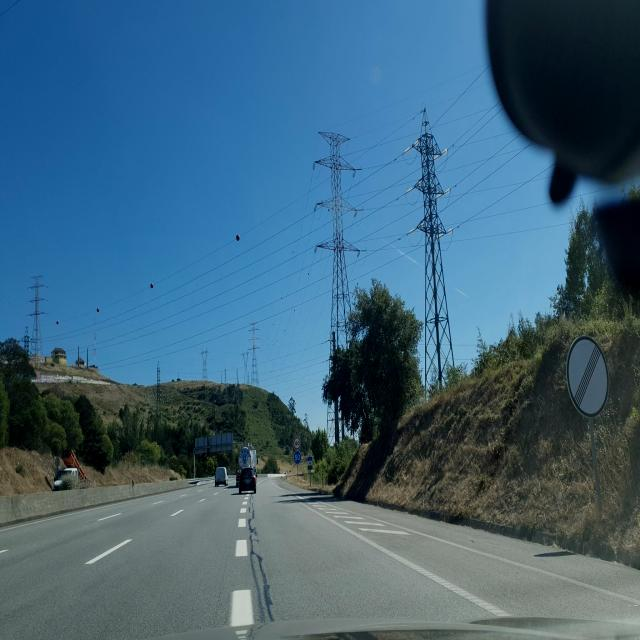car: (52, 466, 88, 491), (238, 466, 257, 494), (215, 466, 228, 487)
